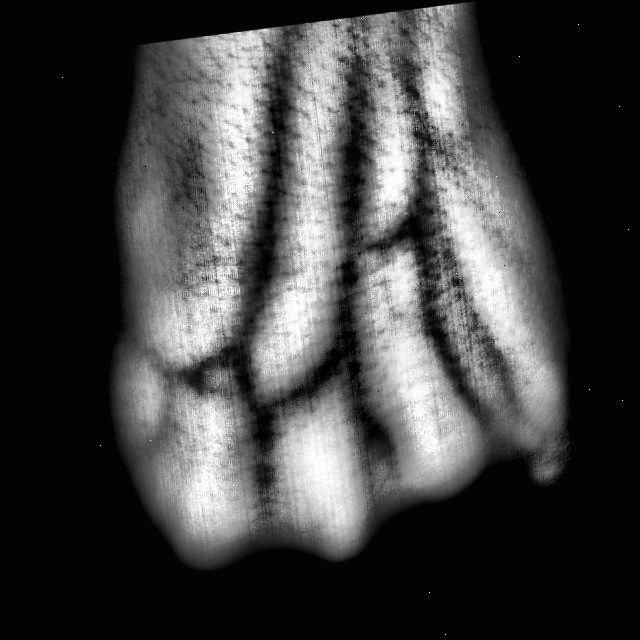Vein: (241, 97, 298, 310), (332, 111, 367, 326)
